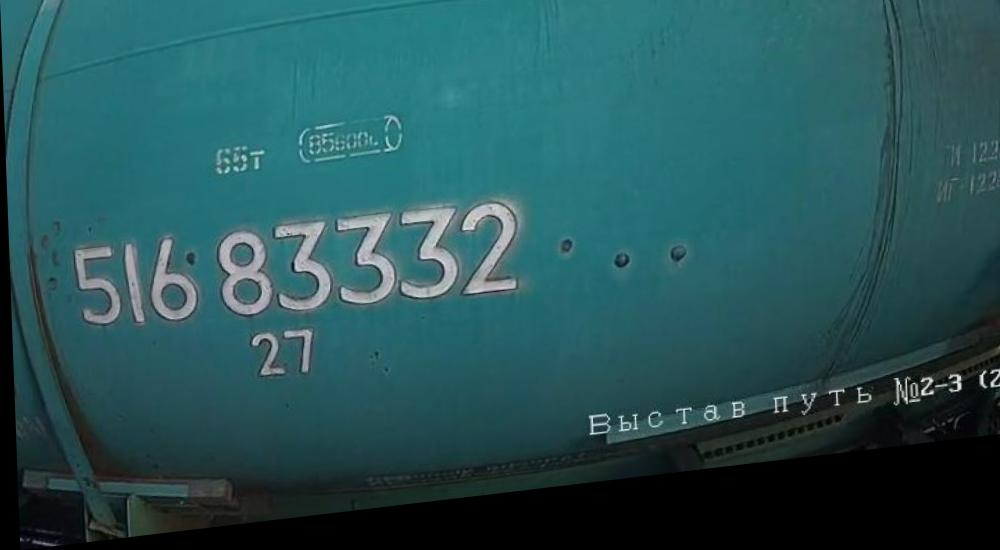Wagon-number: (67, 199, 528, 353)
